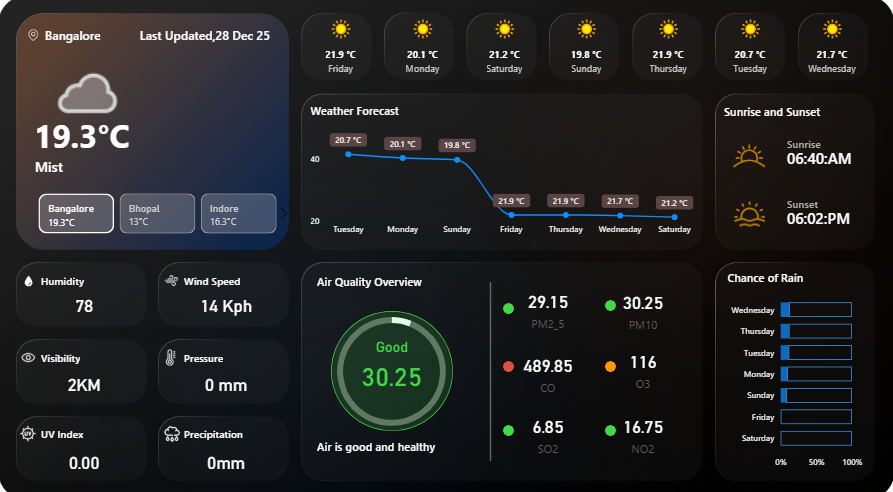

Layout of this report page (visuals, bound fields, positions):
{"tool":"powerbi","page":{"name":"Page 1","canvas":[1280,720],"ordinal":0},"visuals":[{"type":"advancedSlicerVisual","fields":{"Values":["Locations.location.name"]},"box":[32.9,275.7,391.4,67.1],"z":0},{"type":"shape","box":[51.4,164.3,214.3,65.7],"z":1000},{"type":"shape","box":[52.9,218.6,337.1,44.3],"z":2000},{"type":"shape","box":[67.1,35.7,154.3,37.1],"z":3000},{"type":"shape","box":[191.4,35.7,197.1,37.1],"z":4000},{"type":"image","box":[31.4,41.4,38.6,25.7],"z":5000},{"type":"cardVisual","fields":{"Data":["Min(Current.current.condition.icon)"]},"box":[52.9,72.9,140,107.1],"z":6000},{"type":"image","box":[25.7,392.9,35.7,25.7],"z":7000},{"type":"shape","box":[61.4,392.9,145.7,25.7],"z":8000},{"type":"shape","box":[61.4,502.9,145.7,25.7],"z":9000},{"type":"shape","box":[61.4,611.4,145.7,25.7],"z":10000},{"type":"shape","box":[265.7,392.9,145.7,25.7],"z":11000},{"type":"shape","box":[265.7,502.9,145.7,25.7],"z":12000},{"type":"shape","box":[265.7,611.4,145.7,25.7],"z":13000},{"type":"image","box":[25.7,498.6,34.3,32.9],"z":14000},{"type":"image","box":[25.7,605.7,34.3,35.7],"z":15000},{"type":"image","box":[228.6,390,37.1,30],"z":16000},{"type":"image","box":[224.3,498.6,45.7,32.9],"z":17000},{"type":"image","box":[224.3,605.7,48.6,37.1],"z":18000},{"type":"card","fields":{"Values":["_Measure.Visibility_speed"]},"box":[60,531.4,125.7,42.9],"z":19000},{"type":"card","fields":{"Values":["_Measure.Wind_speed"]},"box":[262.9,418.6,125.7,44.3],"z":20000},{"type":"card","fields":{"Values":["Sum(Current.current.humidity)"]},"box":[60,418.6,125.7,44.3],"z":21000},{"type":"card","fields":{"Values":["_Measure.Pressure_speed"]},"box":[262.9,531.4,125.7,42.9],"z":22000},{"type":"card","fields":{"Values":["Sum(Current.current.uv)"]},"box":[60,642.9,125.7,42.9],"z":23000},{"type":"card","fields":{"Values":["_Measure.Precip_speed"]},"box":[262.9,642.9,125.7,42.9],"z":24000},{"type":"advancedSlicerVisual","fields":{"Values":["Forcast_Day.Day_Name"]},"box":[429.4,15.6,822,112],"z":25000},{"type":"lineChart","title":"Weather Forecast","fields":{"Y":["Sum(Forcast_Day.forecast.forecastday.day.avgtemp_c)"],"Category":["Forcast_Day.Day_Name"]},"box":[440.8,151.7,561.3,198.4],"z":26000},{"type":"shape","box":[1037.5,151.7,146,25.5],"z":27000},{"type":"shape","box":[1126.8,197,113.4,65.2],"z":28000},{"type":"shape","box":[1126.8,283.5,113.4,65.2],"z":29000},{"type":"image","box":[1036.1,191.3,75.1,70.9],"z":30000},{"type":"image","box":[1036.1,283.5,75.1,53.9],"z":31000},{"type":"shape","box":[1126.8,197,82.2,25.5],"z":32000},{"type":"shape","box":[1126.8,283.5,82.2,25.5],"z":33000},{"type":"hundredPercentStackedBarChart","title":"Chance of Rain","fields":{"Y":["Sum(Forcast_Day.forecast.forecastday.day.air_quality.so2)","Current.Left_Value_Chancesof_Rain"],"Category":["Forcast_Day.Day_Name"]},"box":[1037.1,390,202.9,292.9],"z":34000},{"type":"card","fields":{"Values":["Sum(Current.current.air_quality.pm10)"]},"box":[867.1,407.1,108.6,78.6],"z":35000},{"type":"card","fields":{"Values":["Sum(Current.current.air_quality.o3)"]},"box":[867.1,491.4,108.6,78.6],"z":36000},{"type":"card","fields":{"Values":["Sum(Current.current.air_quality.no2)"]},"box":[867.1,584.3,108.6,78.6],"z":37000},{"type":"card","fields":{"Values":["Sum(Current.current.air_quality.pm2_5)"]},"box":[731.4,405.7,108.6,78.6],"z":38000},{"type":"card","fields":{"Values":["Sum(Current.current.air_quality.co)"]},"box":[731.4,497.1,108.6,78.6],"z":39000},{"type":"card","fields":{"Values":["Sum(Current.current.air_quality.so2)"]},"box":[731.4,584.3,108.6,78.6],"z":40000},{"type":"shape","box":[721.4,437.1,15.7,15.7],"z":41000},{"type":"shape","box":[867.1,611.4,15.7,15.7],"z":42000},{"type":"shape","box":[721.4,520,15.7,15.7],"z":43000},{"type":"shape","box":[721.4,611.4,15.7,15.7],"z":44000},{"type":"shape","box":[867.1,520,15.7,15.7],"z":45000},{"type":"shape","box":[867.1,432.9,15.7,15.7],"z":46000},{"type":"shape","box":[697.1,407.1,12.9,255.7],"z":47000},{"type":"card","fields":{"Values":["Sum(Current.current.air_quality.pm10)"]},"box":[508.6,488.6,108.6,78.6],"z":48000},{"type":"donutChart","fields":{"Y":["Sum(Current.current.air_quality.pm10)","_Measure.Left_Value_PM10"]},"box":[441.4,432.9,241.4,204.3],"z":49000},{"type":"shape","box":[475.7,448.6,174.3,171.4],"z":49001},{"type":"shape","box":[455.7,394.3,212.9,24.3],"z":49002},{"type":"shape","box":[455.7,630,212.9,24.3],"z":49003}]}

Visuals, with their boxes in screenshot pixels (x1, y1, x2, y2), scaled from the page's 1280x720 canvas onto the 893x492 screenshot:
advancedSlicerVisual - Locations.location.name: (23, 188, 296, 234)
shape: (36, 112, 185, 157)
shape: (37, 149, 272, 180)
shape: (47, 24, 154, 50)
shape: (134, 24, 271, 50)
image: (22, 28, 49, 46)
cardVisual - Min(Current.current.condition.icon): (37, 50, 135, 123)
image: (18, 268, 43, 286)
shape: (43, 268, 144, 286)
shape: (43, 344, 144, 361)
shape: (43, 418, 144, 435)
shape: (185, 268, 287, 286)
shape: (185, 344, 287, 361)
shape: (185, 418, 287, 435)
image: (18, 341, 42, 363)
image: (18, 414, 42, 438)
image: (159, 266, 185, 287)
image: (156, 341, 188, 363)
image: (156, 414, 190, 439)
card - _Measure.Visibility_speed: (42, 363, 130, 392)
card - _Measure.Wind_speed: (183, 286, 271, 316)
card - Sum(Current.current.humidity): (42, 286, 130, 316)
card - _Measure.Pressure_speed: (183, 363, 271, 392)
card - Sum(Current.current.uv): (42, 439, 130, 469)
card - _Measure.Precip_speed: (183, 439, 271, 469)
advancedSlicerVisual - Forcast_Day.Day_Name: (300, 11, 873, 87)
"Weather Forecast" lineChart: (308, 104, 699, 239)
shape: (724, 104, 826, 121)
shape: (786, 135, 865, 179)
shape: (786, 194, 865, 238)
image: (723, 131, 775, 179)
image: (723, 194, 775, 231)
shape: (786, 135, 843, 152)
shape: (786, 194, 843, 211)
"Chance of Rain" hundredPercentStackedBarChart: (724, 266, 865, 467)
card - Sum(Current.current.air_quality.pm10): (605, 278, 681, 332)
card - Sum(Current.current.air_quality.o3): (605, 336, 681, 390)
card - Sum(Current.current.air_quality.no2): (605, 399, 681, 453)
card - Sum(Current.current.air_quality.pm2_5): (510, 277, 586, 331)
card - Sum(Current.current.air_quality.co): (510, 340, 586, 393)
card - Sum(Current.current.air_quality.so2): (510, 399, 586, 453)
shape: (503, 299, 514, 309)
shape: (605, 418, 616, 429)
shape: (503, 355, 514, 366)
shape: (503, 418, 514, 429)
shape: (605, 355, 616, 366)
shape: (605, 296, 616, 307)
shape: (486, 278, 495, 453)
card - Sum(Current.current.air_quality.pm10): (355, 334, 431, 388)
donutChart - Sum(Current.current.air_quality.pm10) x _Measure.Left_Value_PM10: (308, 296, 476, 435)
shape: (332, 307, 453, 424)
shape: (318, 269, 466, 286)
shape: (318, 430, 466, 447)
